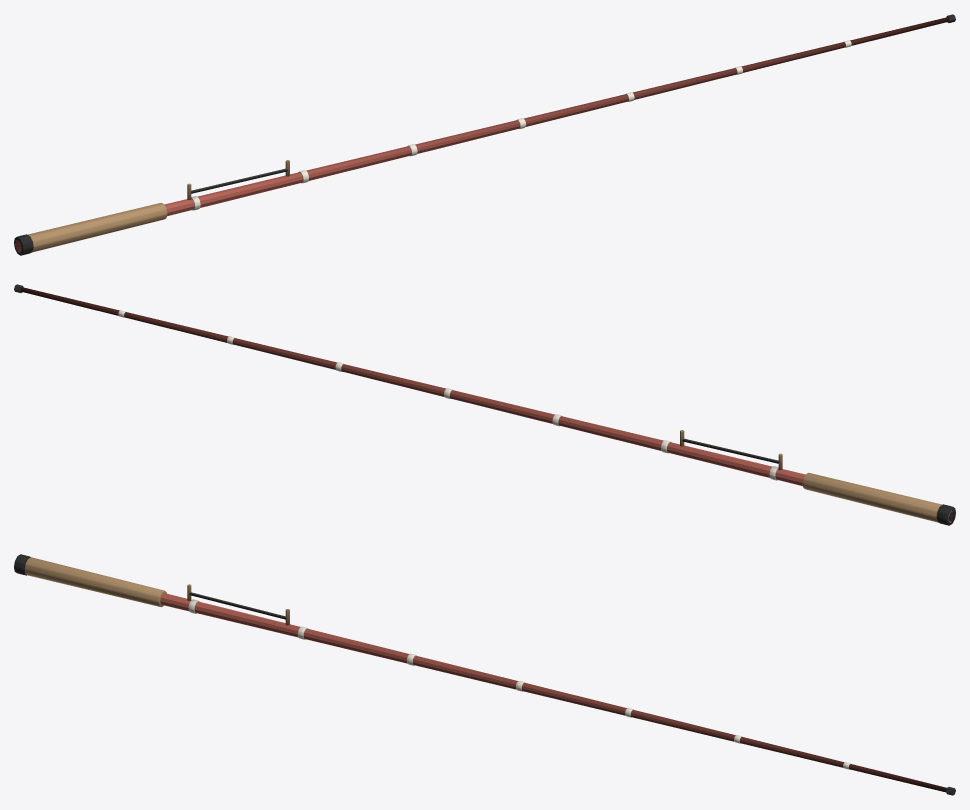
Rendered from rod_cane.glb.
3 renders of one model, top to bottom at view 1: azimuth 30°, elevation 25°; view 2: azimuth 150°, elevation 25°; view 3: azimuth 330°, elevation 25°, orthographic.
Visible parts, largest first — view 1: PART; view 2: PART; view 3: PART.
Part boxes in pixels (x1,y1,x2,y2): PART: (14,14,955,255); PART: (14,284,955,525); PART: (14,554,955,795).
Bounding box in the file's own units: 1.81 × 0.0531 × 0.0329.
